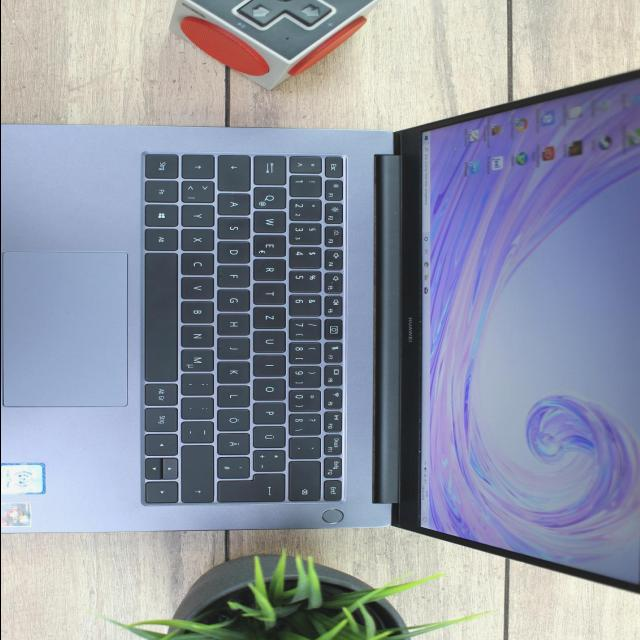0: (290, 389, 323, 411)
1: (289, 174, 323, 196)
2: (291, 198, 324, 220)
3: (290, 222, 324, 244)
4: (290, 246, 323, 268)
5: (289, 270, 323, 292)
6: (290, 294, 323, 315)
7: (290, 318, 323, 340)
8: (290, 341, 324, 363)
9: (290, 365, 323, 387)
a: (218, 193, 252, 215)
accent: (290, 437, 322, 459)
ae: (218, 432, 252, 454)
alt-left: (146, 228, 180, 250)
altgr-right: (145, 383, 179, 406)
b: (182, 300, 216, 323)
c: (181, 252, 215, 275)
caret: (291, 156, 324, 174)
comma: (182, 373, 216, 395)
d: (218, 241, 252, 263)
del: (289, 461, 323, 501)
e: (254, 235, 288, 257)
enter: (218, 473, 287, 502)
f: (218, 265, 252, 287)
g: (218, 289, 252, 311)
h: (218, 313, 252, 335)
hash: (218, 456, 252, 478)
i: (254, 354, 288, 376)
j: (218, 337, 252, 359)
k: (218, 361, 252, 383)
keyboard: (135, 148, 347, 514)
l: (218, 385, 252, 407)
less: (182, 180, 216, 202)
m: (181, 348, 215, 371)
minus: (182, 421, 216, 443)
n: (181, 325, 215, 348)
o: (254, 378, 288, 400)
oe: (218, 409, 252, 431)
p: (255, 401, 288, 423)
plus: (253, 449, 287, 471)
point: (182, 397, 216, 419)
q: (255, 186, 289, 210)
r: (254, 259, 288, 281)
s: (218, 217, 252, 239)
shift-left: (183, 154, 216, 179)
shift-lock: (218, 155, 252, 191)
shift-right: (183, 445, 217, 502)
space: (145, 252, 179, 381)
ss: (290, 412, 322, 434)
strg-left: (146, 153, 180, 179)
strg-right: (146, 407, 180, 432)
t: (254, 283, 288, 305)
tab: (254, 155, 288, 185)
u: (254, 330, 288, 352)
ue: (254, 426, 288, 448)
v: (182, 277, 216, 299)
w: (255, 211, 289, 233)
x: (181, 229, 215, 251)
y: (181, 205, 215, 227)
z: (254, 307, 288, 329)
